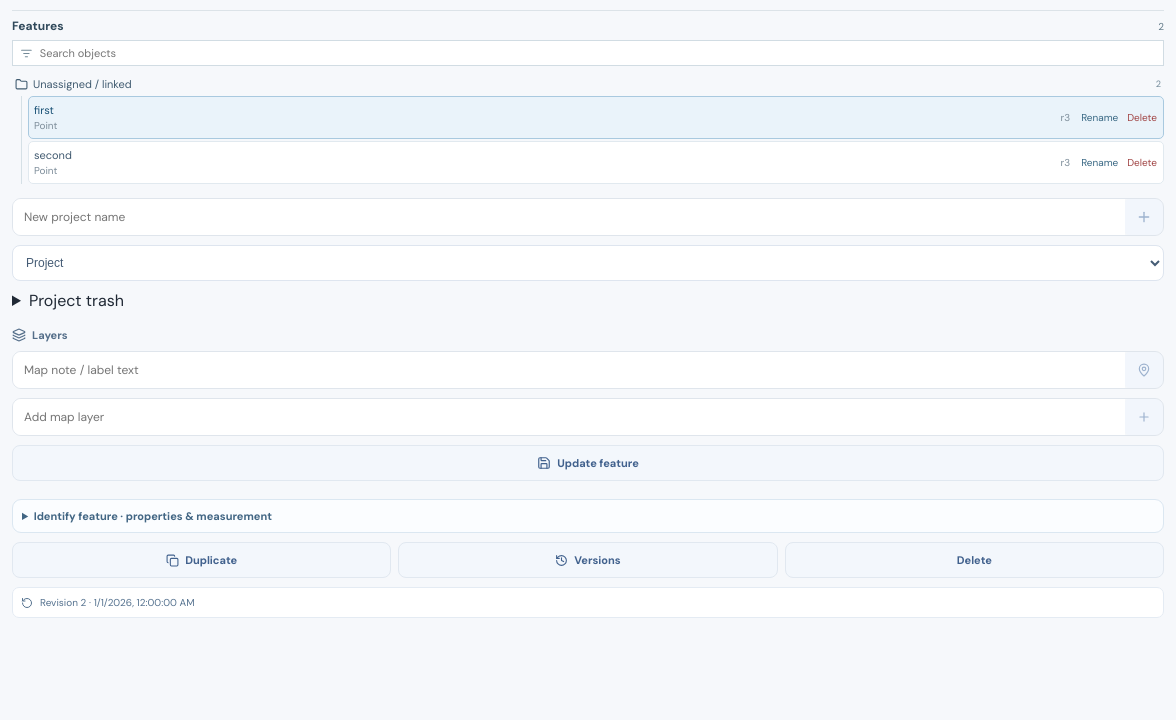
Test: rejects a mismatched feature history response
Check: the button "Revision 2 · 1/1/2026, 12:00:00 AM" is shown, box [12,587,1164,618]
Click the button "Versions" at [588, 560], box [398,542,778,578]
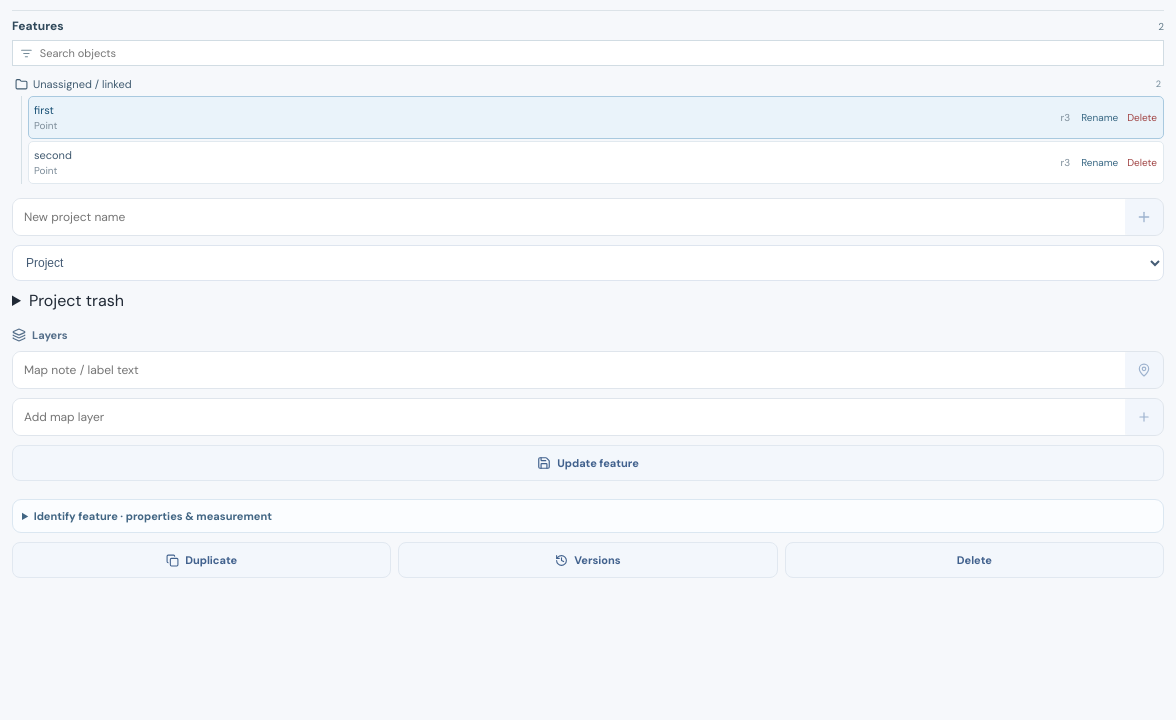
Click the button "Versions" at [588, 560], box [398,542,778,578]
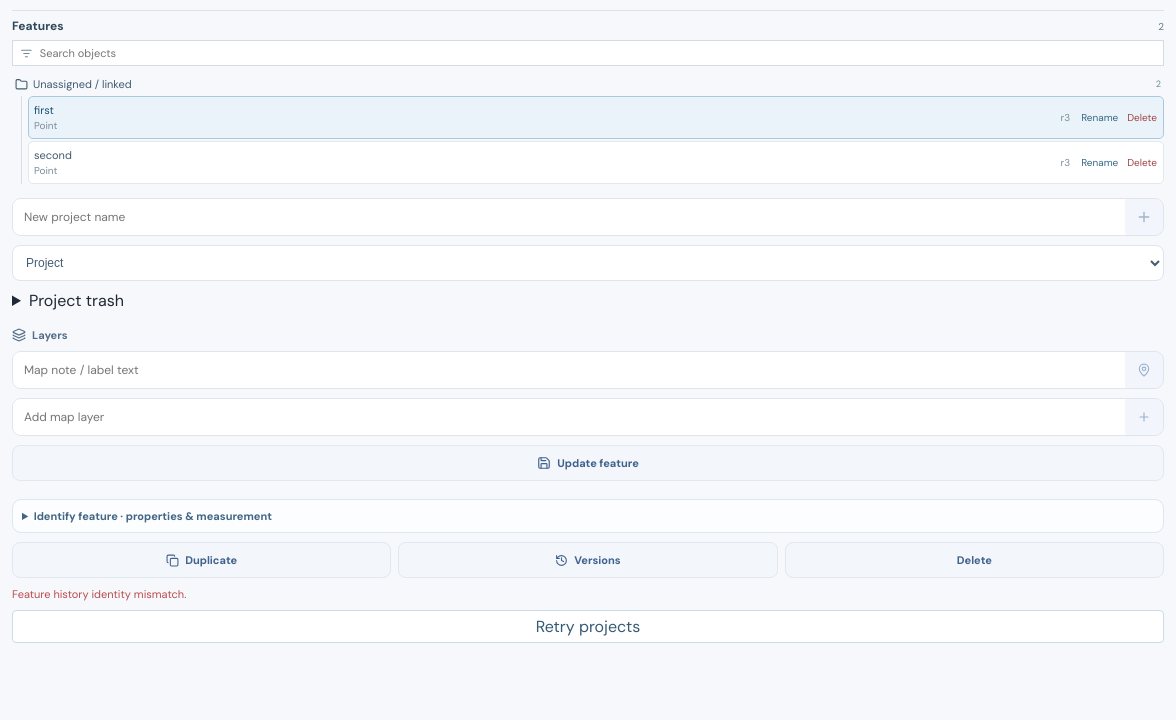
Check: the text "Feature history identity mismatch." is shown, box [12,587,186,601]
